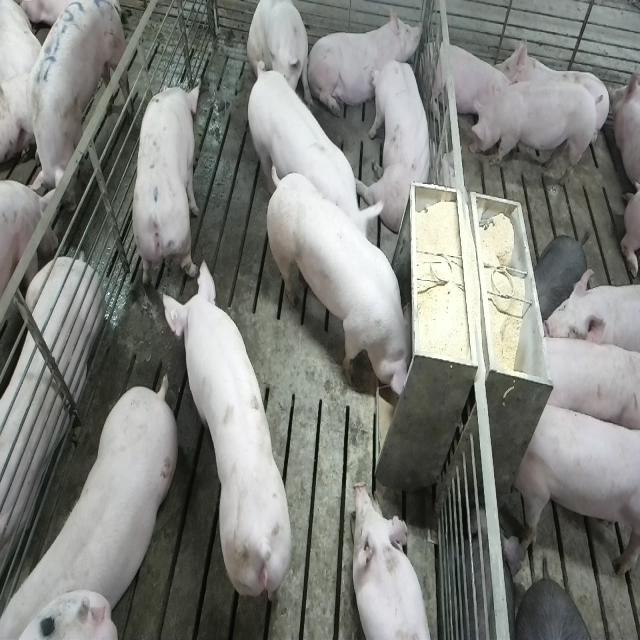Feeding: (270, 170, 422, 405)
Sitting: (366, 58, 436, 234), (247, 0, 311, 109)
Standing: (159, 253, 291, 615), (6, 373, 182, 634), (244, 62, 381, 260), (513, 395, 639, 580), (24, 0, 124, 207), (130, 80, 200, 297), (470, 82, 606, 190), (534, 331, 637, 435), (542, 273, 640, 370)
Sternal_lying: (0, 191, 101, 578), (352, 480, 436, 640), (314, 3, 422, 116), (427, 35, 513, 128)
